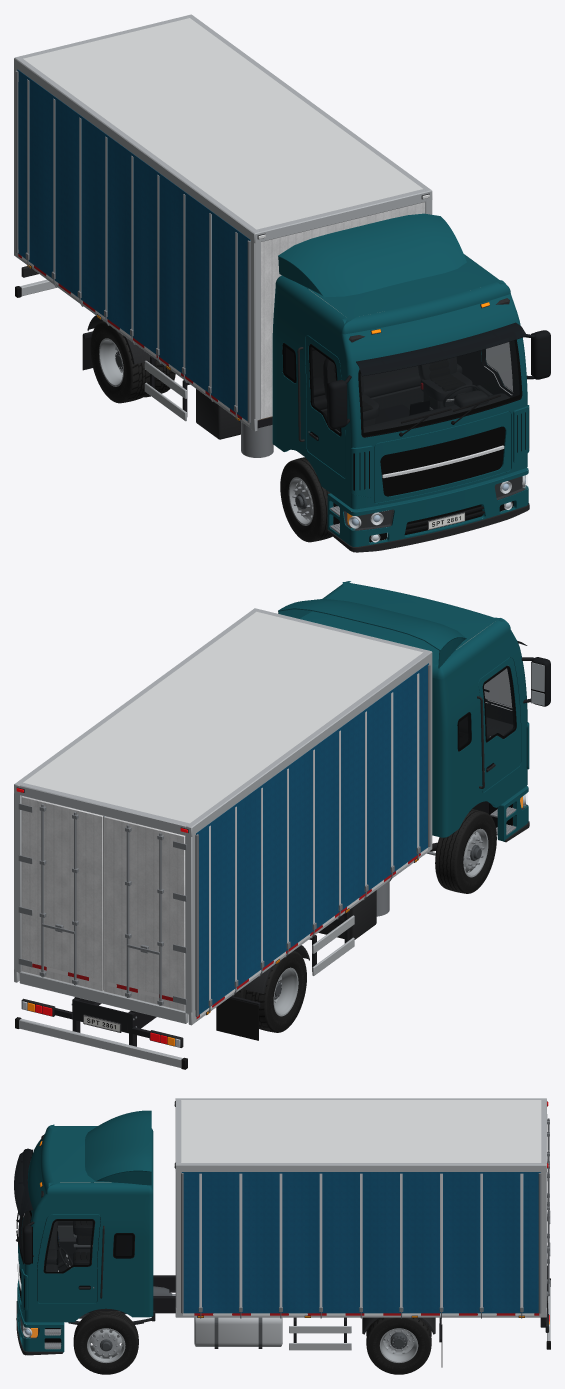
The model's file is curtainside-truck.glb.
The picture shows the model from 3 angles, top to bottom: view 1: azimuth 30°, elevation 25°; view 2: azimuth 150°, elevation 25°; view 3: azimuth 270°, elevation 25°; orthographic projection. The views are drawn at different scales.
Parts seen in each view (by area): view 1: Body, Wheel_2_Right, Wheel_1_Right; view 2: Body, Door_Left, Door_Right, Wheel_1_Right, Wheel_2_Right; view 3: Body, Wheel_1_Left, Wheel_2_Left, Door_Left.
Boxes of the visible parts, x1,y1,x2,y2 form: Body: (14, 14, 550, 552); Wheel_2_Right: (90, 321, 175, 403); Wheel_1_Right: (280, 457, 333, 542); Body: (14, 581, 550, 1069); Door_Left: (18, 796, 103, 990); Door_Right: (103, 816, 186, 1010); Wheel_1_Right: (435, 808, 496, 893); Wheel_2_Right: (232, 951, 306, 1032); Body: (14, 1098, 550, 1367); Wheel_1_Left: (73, 1311, 138, 1374); Wheel_2_Left: (366, 1317, 431, 1374); Door_Left: (547, 1150, 550, 1300).
Bounding box in the file's own units: 3.12 × 3.7 × 8.53.
Materials: 67 (17 with a texture image).
